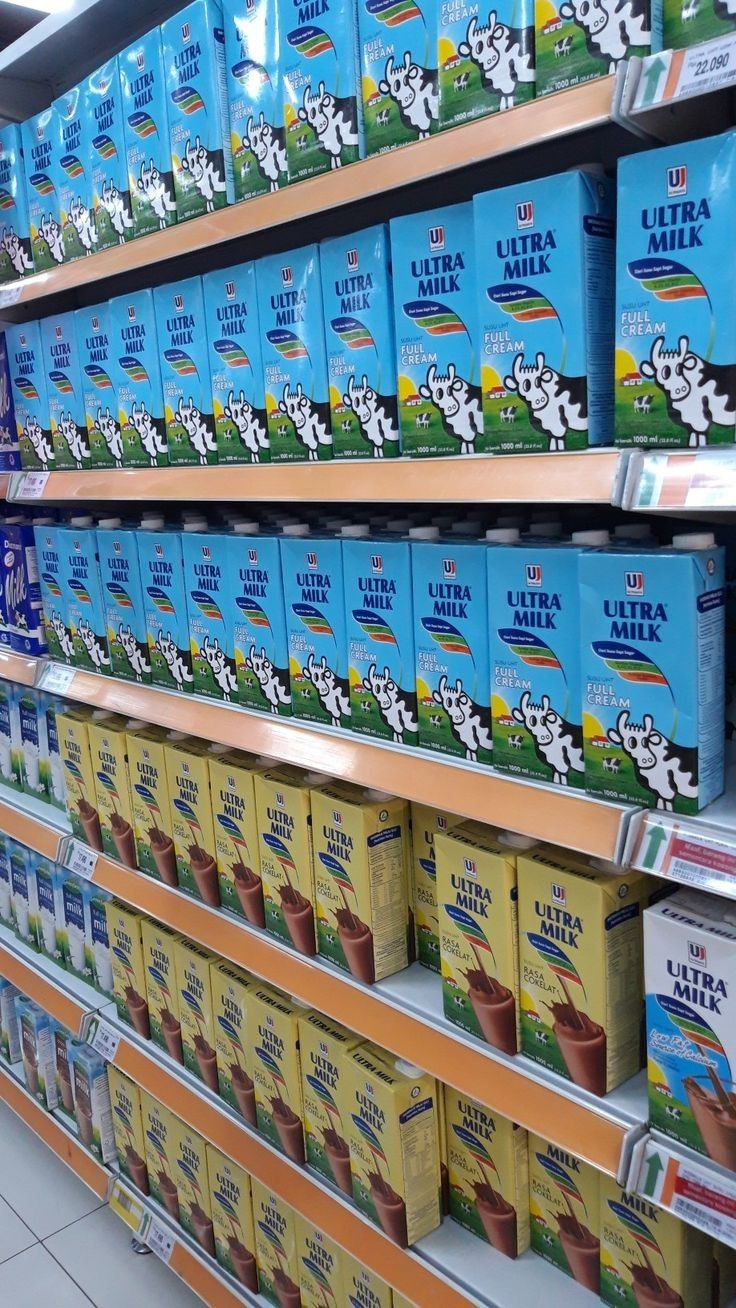Ultra Milk: (447, 155, 613, 464)
